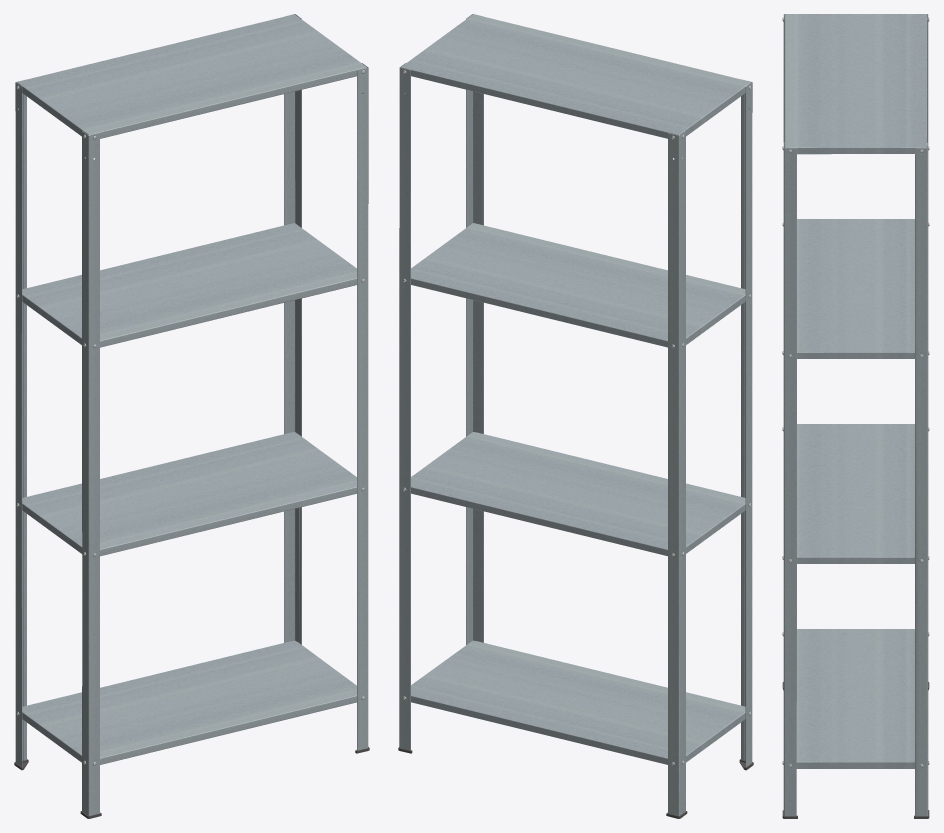
Rendered from HYLLIS_00278578.glb.
3 renders of one model, left to right at view 1: azimuth 30°, elevation 25°; view 2: azimuth 150°, elevation 25°; view 3: azimuth 270°, elevation 25°, orthographic.
Visible parts, largest first — view 1: model; view 2: model; view 3: model.
Part boxes in pixels (x1,y1,x2,y2): model: [14, 14, 369, 818]; model: [398, 14, 753, 818]; model: [782, 14, 929, 818].
Size of the model in its own units: 0.6066 by 1.4 by 0.2786.
1 material, 1 textured.
